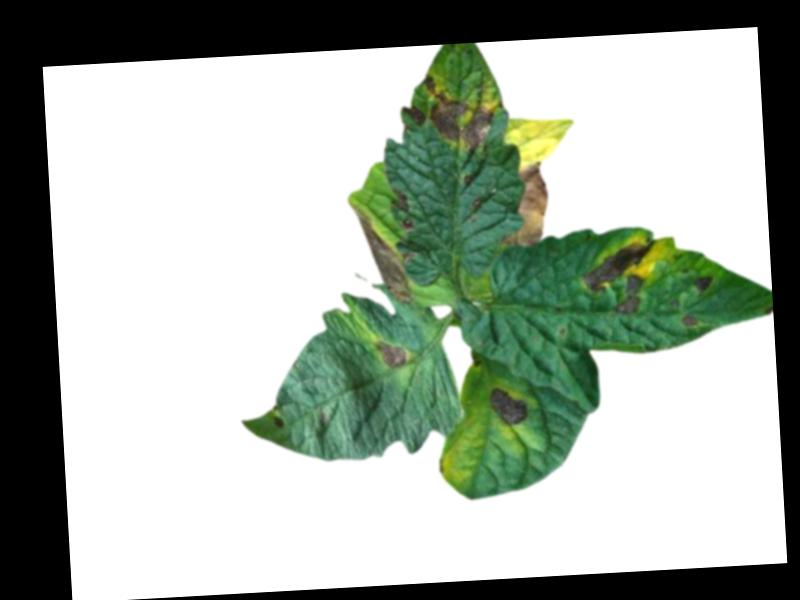Early_blight: (348, 203, 410, 307), (579, 238, 659, 318), (420, 70, 495, 153), (495, 161, 551, 250), (487, 384, 527, 427), (372, 340, 410, 374), (392, 187, 413, 232), (399, 101, 425, 127), (688, 275, 713, 293), (680, 314, 698, 330), (272, 415, 285, 432)
